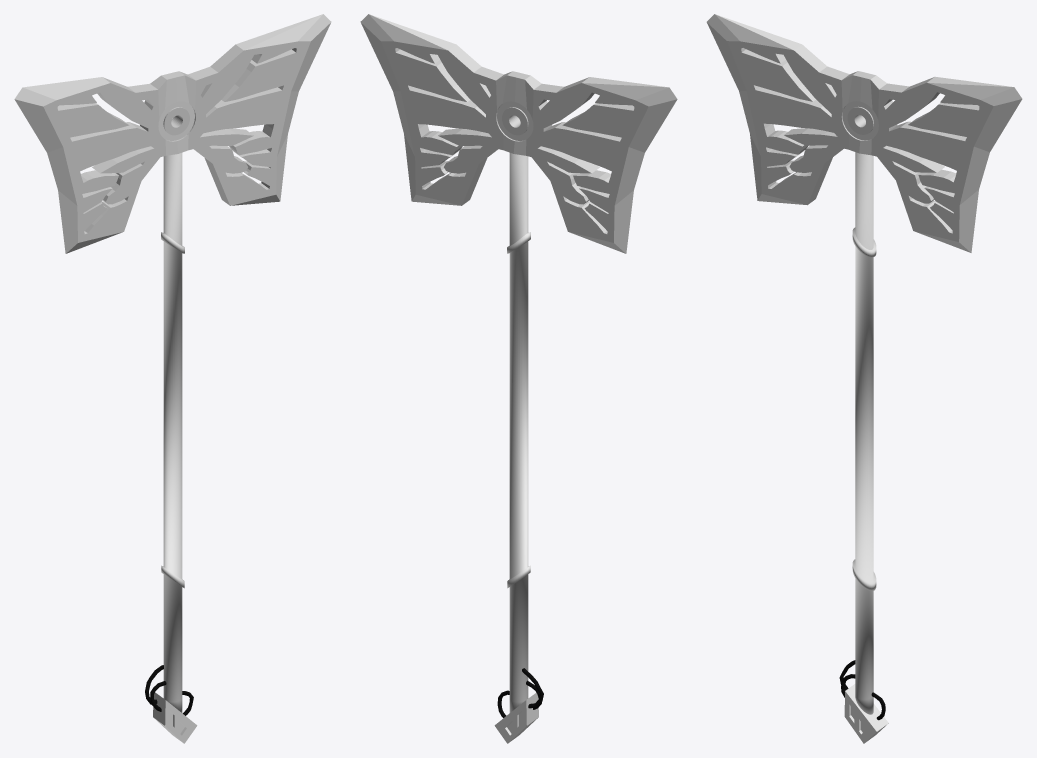
The model's file is Envallah_Axe.fbx.
The picture shows the model from 3 angles, left to right: view 1: azimuth 30°, elevation 25°; view 2: azimuth 150°, elevation 25°; view 3: azimuth 330°, elevation 25°; orthographic projection.
Visible parts, largest first — view 1: Plane, Cylinder, Cube; view 2: Plane, Cylinder, Cube; view 3: Plane, Cylinder, Cube.
Boxes of the visible parts, x1,y1,x2,y2 form: Plane: (14, 14, 331, 253); Cylinder: (161, 153, 184, 712); Cube: (153, 692, 197, 743); Plane: (360, 14, 677, 253); Cylinder: (507, 153, 530, 712); Cube: (494, 692, 538, 743); Plane: (706, 14, 1022, 252); Cylinder: (852, 152, 876, 714); Cube: (844, 684, 888, 743).
Bounding box in the file's own units: 206 × 427 × 13.6.
